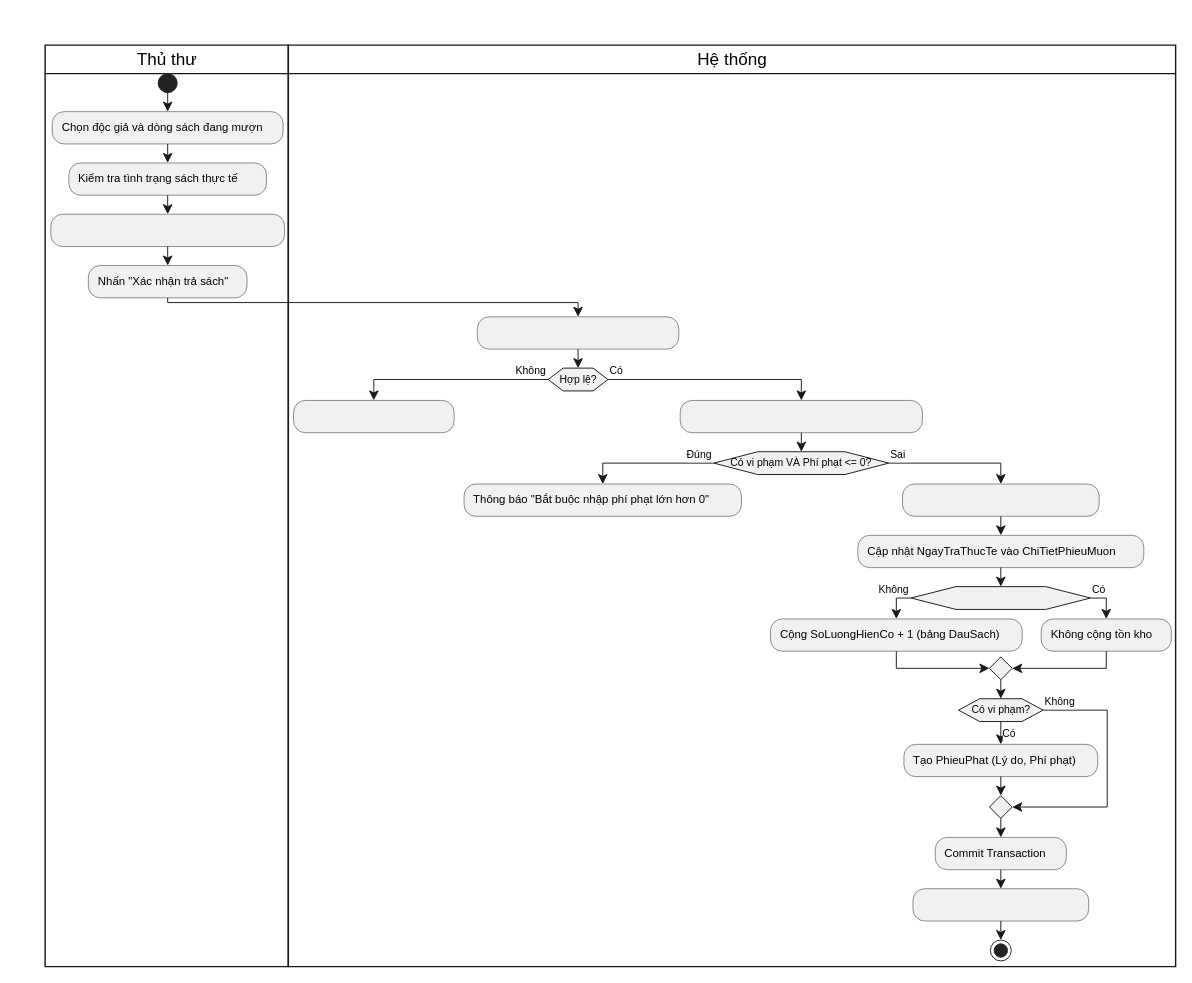
This 1192x983 diagram has some shape labels left out. The centre of each missing label's shape, as x and y in pixels:
"Chọn Ngày trả, Tình trạng và Phí phạt" goes at pixel 167 230.
"Kiểm tra Ngày trả >= Ngày mượn" goes at pixel 578 332.
"Mở Transaction mức Serializable" goes at pixel 1000 499.
"Thông báo hoàn tất trả sách" goes at pixel 1000 904.
"Thông báo lỗi ngày tháng" goes at pixel 373 416.
"Tình trạng sách Mất/Hư hỏng?" goes at pixel 1000 597.
"Xác định có vi phạm (Quá hạn/Mất/Hư)?" goes at pixel 801 416.
